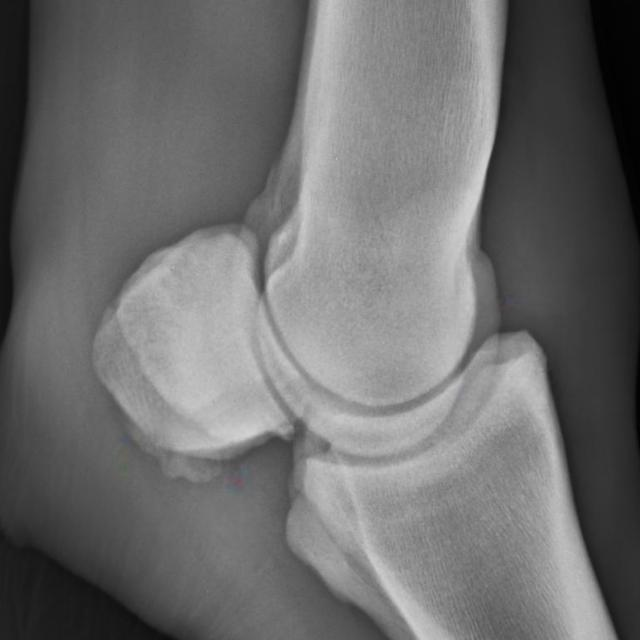bone remodeling: (402, 275, 608, 463), (90, 342, 261, 541)
